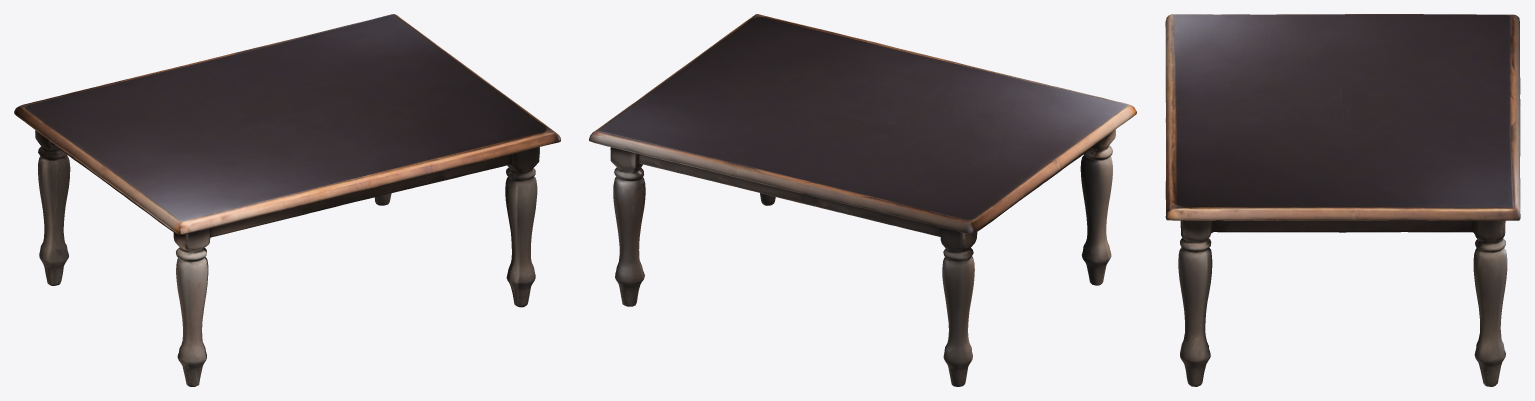
3 views of the same model, side by side, from view 1: azimuth 30°, elevation 25°; view 2: azimuth 150°, elevation 25°; view 3: azimuth 270°, elevation 25° (orthographic). The views are drawn at different scales.
Parts seen in each view (by area): view 1: Mesh1.0; view 2: Mesh1.0; view 3: Mesh1.0.
Part boxes in pixels (x1,y1,x2,y2): Mesh1.0: [14, 14, 560, 386]; Mesh1.0: [589, 14, 1136, 386]; Mesh1.0: [1165, 14, 1520, 386].
Size of the model in its own units: 202 by 89.14 by 152.
Materials: 1 (1 with a texture image).
